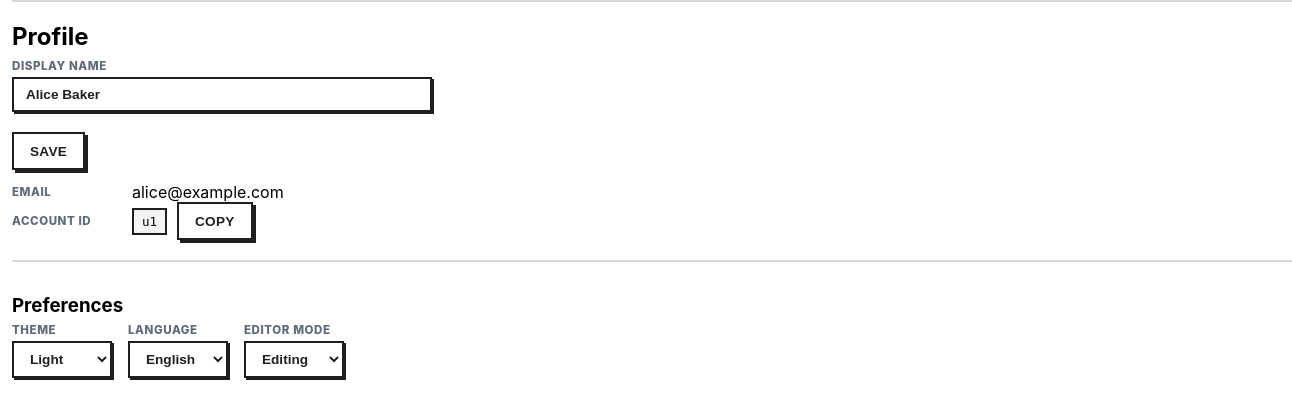
Scenario: ProfileSection › keeps the typed value and shows the server message when the name is rejected
Clear the field labelled "Display name" at (222, 94), box [12,77,432,112]
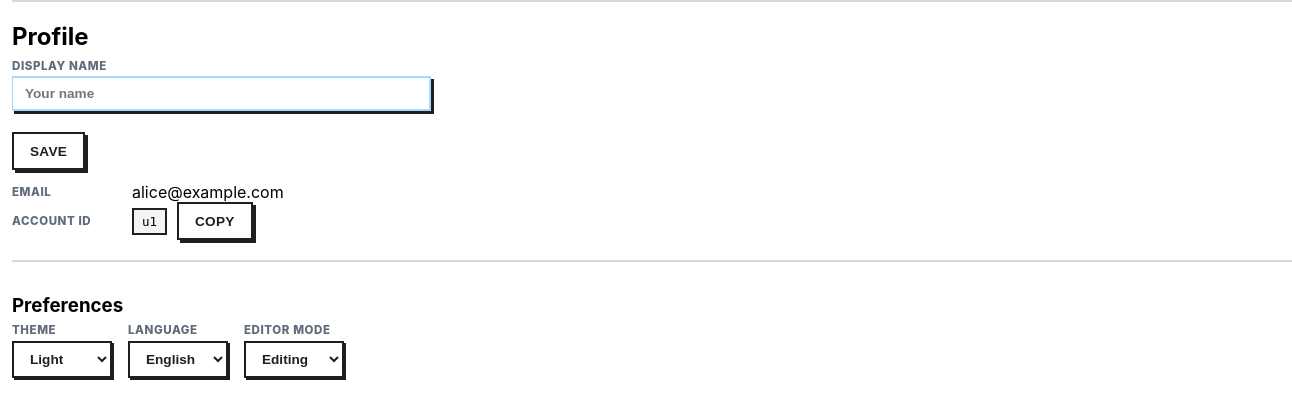
Type "A name the server rejects" into the field labelled "Display name" at (221, 94), box [11,76,431,111]
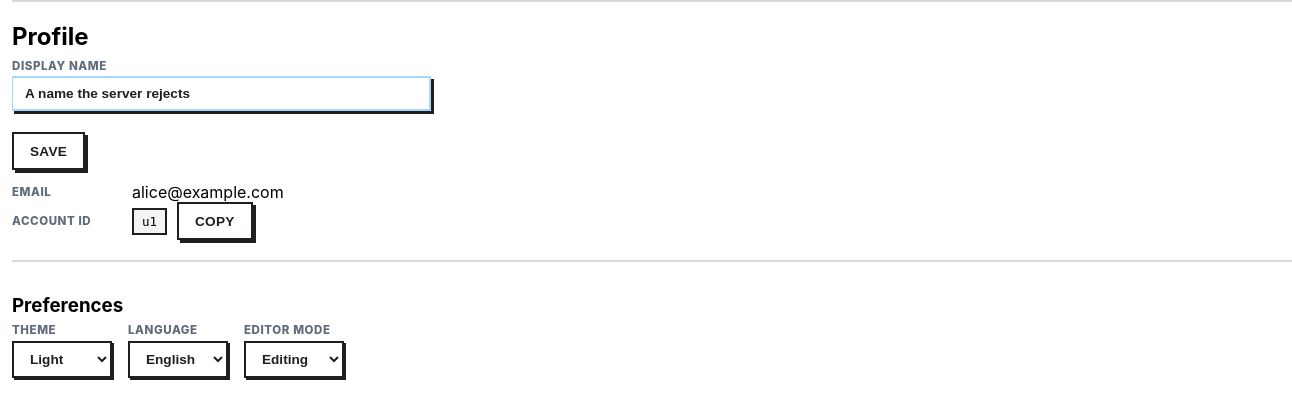
Click the button "Save" at (49, 151), box [12,132,85,170]
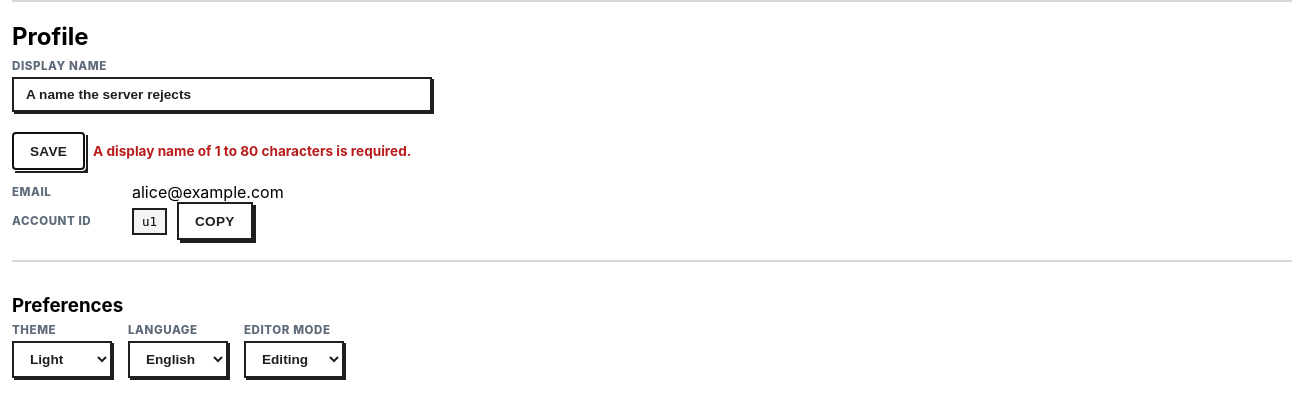
Check: the message shows "1 to 80 characters", box [93,143,411,159]
